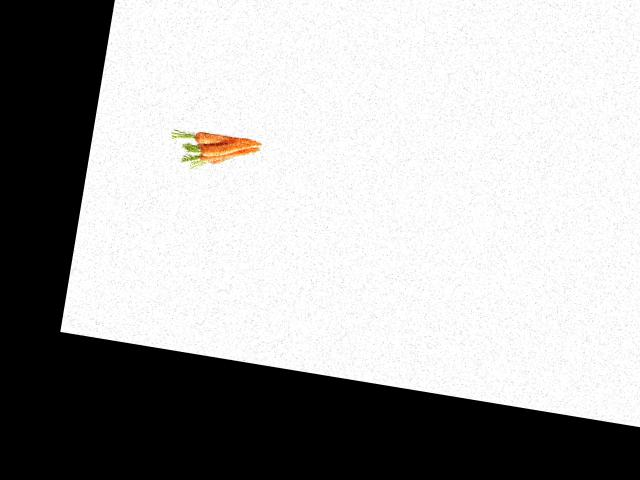carrot: (195, 128, 263, 153)
